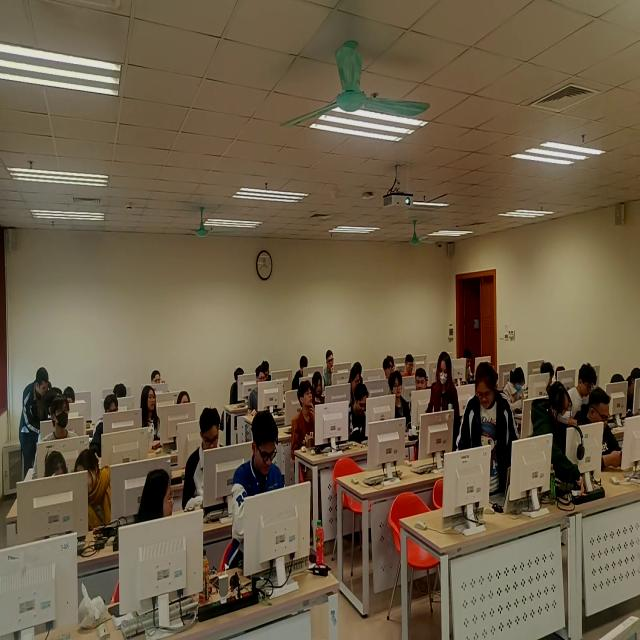raise_head: (34, 396, 80, 481), (292, 382, 316, 462), (390, 372, 412, 434), (141, 386, 161, 443), (323, 351, 335, 388), (384, 355, 397, 380), (416, 369, 428, 391), (152, 371, 167, 386), (178, 392, 192, 405)
stand: (457, 363, 521, 498), (532, 381, 586, 504), (427, 351, 462, 452), (19, 367, 50, 473)
using_computer: (226, 410, 285, 573), (184, 408, 226, 515), (576, 388, 624, 473), (567, 362, 599, 421), (91, 395, 120, 448), (350, 383, 371, 442), (503, 368, 527, 415), (249, 367, 267, 418), (625, 366, 640, 419), (293, 356, 309, 392), (231, 369, 246, 405), (312, 373, 327, 407), (348, 368, 361, 403), (402, 355, 417, 378), (262, 361, 273, 382), (114, 383, 128, 399), (64, 387, 76, 404), (355, 363, 364, 384), (612, 374, 626, 385)
using_phone: (463, 350, 476, 384)
